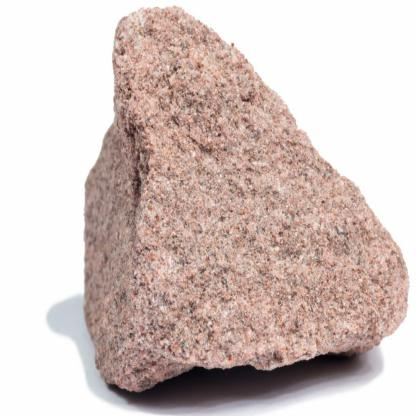Metamorphic_Quartize: (68, 9, 411, 404)
